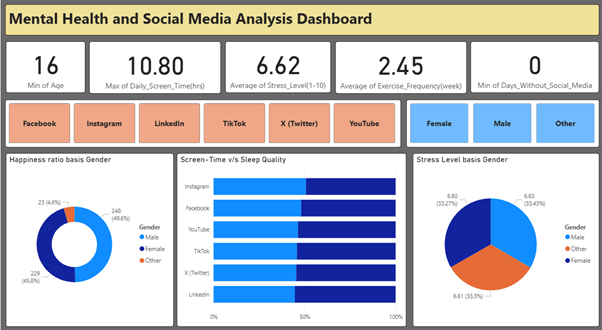

This screenshot's page, from the dashboard's own definition file:
{"tool":"powerbi","page":{"name":"Page 1","canvas":[1300,720],"ordinal":0},"visuals":[{"type":"card","fields":{"Values":["Min(Mental_Health_and_Social_Media_Balance_Dataset.Age)"]},"box":[11.4,91.4,171.4,111.4],"z":0},{"type":"card","fields":{"Values":["Max(Mental_Health_and_Social_Media_Balance_Dataset.Daily_Screen_Time(hrs))"]},"box":[191.4,91.4,282.9,112.9],"z":1000},{"type":"card","fields":{"Values":["Min(Mental_Health_and_Social_Media_Balance_Dataset.Days_Without_Social_Media)"]},"box":[1012.9,91.4,277.1,111.4],"z":2000},{"type":"card","fields":{"Values":["Avg(Mental_Health_and_Social_Media_Balance_Dataset.Exercise_Frequency(week))"]},"box":[721.4,91.4,282.9,112.9],"z":3000},{"type":"card","fields":{"Values":["Avg(Mental_Health_and_Social_Media_Balance_Dataset.Stress_Level(1-10))"]},"box":[484.3,91.4,227.1,111.4],"z":4000},{"type":"advancedSlicerVisual","fields":{"Values":["Mental_Health_and_Social_Media_Balance_Dataset.Gender"]},"box":[874.3,217.1,415.7,102.9],"z":5000},{"type":"advancedSlicerVisual","fields":{"Values":["Mental_Health_and_Social_Media_Balance_Dataset.Social_Media_Platform"]},"box":[10,217.1,852.9,102.9],"z":6000},{"type":"hundredPercentStackedBarChart","title":"Screen-Time v/s Sleep Quality","fields":{"Category":["Mental_Health_and_Social_Media_Balance_Dataset.Social_Media_Platform"],"Y":["Avg(Mental_Health_and_Social_Media_Balance_Dataset.Daily_Screen_Time(hrs))","Avg(Mental_Health_and_Social_Media_Balance_Dataset.Sleep_Quality(1-10))"]},"box":[380,332.9,494.3,374.3],"z":7000},{"type":"pieChart","title":"Stress Level basis Gender","fields":{"Category":["Mental_Health_and_Social_Media_Balance_Dataset.Gender"],"Y":["Avg(Mental_Health_and_Social_Media_Balance_Dataset.Stress_Level(1-10))"]},"box":[888.6,332.9,401.4,374.3],"z":8000},{"type":"donutChart","title":"Happiness ratio basis Gender","fields":{"Category":["Mental_Health_and_Social_Media_Balance_Dataset.Gender"],"Y":["Min(Mental_Health_and_Social_Media_Balance_Dataset.Happiness_Index(1-10))"]},"box":[11.4,332.9,361.4,374.3],"z":9000},{"type":"textbox","box":[10,11.4,1280,67.1],"z":10000}]}

Visuals, with their boxes in screenshot pixels (x1, y1, x2, y2), scaled from the page's 1300x720 canvas onto the 602x330 screenshot:
card - Min(Mental_Health_and_Social_Media_Balance_Dataset.Age): Rect(5, 42, 85, 93)
card - Max(Mental_Health_and_Social_Media_Balance_Dataset.Daily_Screen_Time(hrs)): Rect(89, 42, 220, 94)
card - Min(Mental_Health_and_Social_Media_Balance_Dataset.Days_Without_Social_Media): Rect(469, 42, 597, 93)
card - Avg(Mental_Health_and_Social_Media_Balance_Dataset.Exercise_Frequency(week)): Rect(334, 42, 465, 94)
card - Avg(Mental_Health_and_Social_Media_Balance_Dataset.Stress_Level(1-10)): Rect(224, 42, 329, 93)
advancedSlicerVisual - Mental_Health_and_Social_Media_Balance_Dataset.Gender: Rect(405, 100, 597, 147)
advancedSlicerVisual - Mental_Health_and_Social_Media_Balance_Dataset.Social_Media_Platform: Rect(5, 100, 400, 147)
"Screen-Time v/s Sleep Quality" hundredPercentStackedBarChart: Rect(176, 153, 405, 324)
"Stress Level basis Gender" pieChart: Rect(411, 153, 597, 324)
"Happiness ratio basis Gender" donutChart: Rect(5, 153, 173, 324)
textbox: Rect(5, 5, 597, 36)
